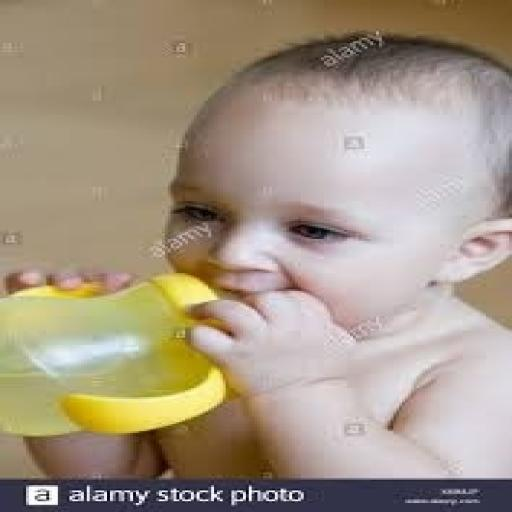drinking: (0, 269, 243, 435)
